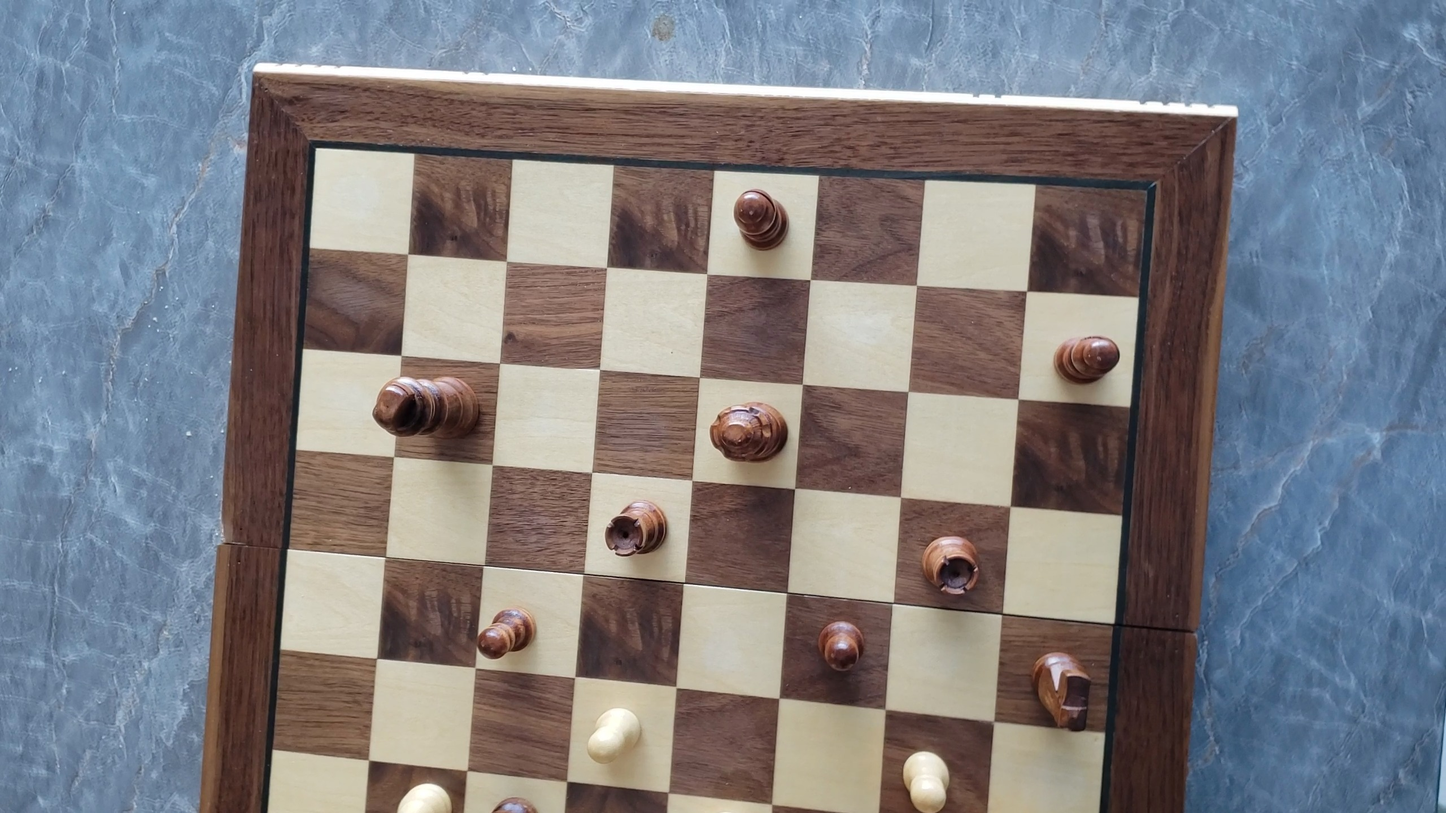black-bishop: (720, 176, 802, 261), (1053, 331, 1122, 386)
black-king: (365, 365, 494, 452)
black-knight: (1028, 647, 1094, 732)
black-pawn: (473, 605, 548, 666), (811, 615, 870, 681)
black-queen: (707, 397, 790, 464)
black-rook: (921, 523, 993, 613), (598, 490, 672, 558)
white-pawn: (579, 703, 650, 775), (894, 747, 953, 810)
